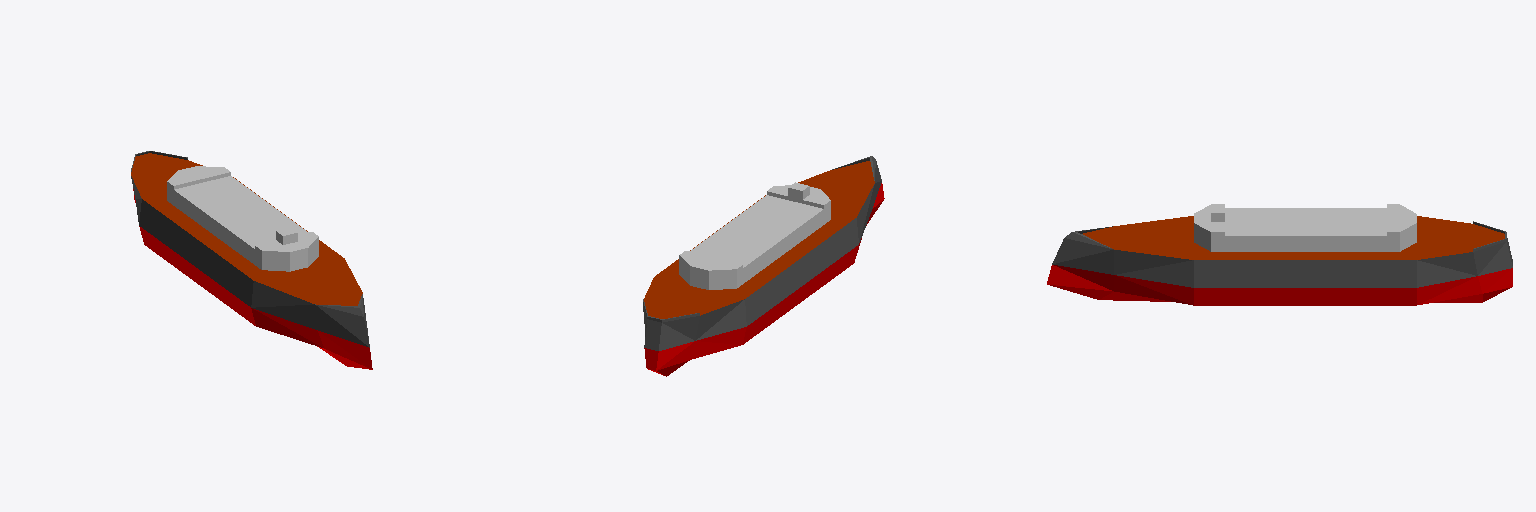
Rendered from ship_real_1_mast.obj.
3 views of the same model, side by side, from view 1: azimuth 30°, elevation 25°; view 2: azimuth 150°, elevation 25°; view 3: azimuth 270°, elevation 25° (orthographic).
Parts seen in each view (by area): view 1: Ship; view 2: Ship; view 3: Ship.
Part boxes in pixels (x1,y1,x2,y2): Ship: (131, 151, 372, 369); Ship: (643, 156, 884, 376); Ship: (1047, 204, 1512, 305).
Bounding box in the file's own units: 1 × 0.9311 × 4.22.